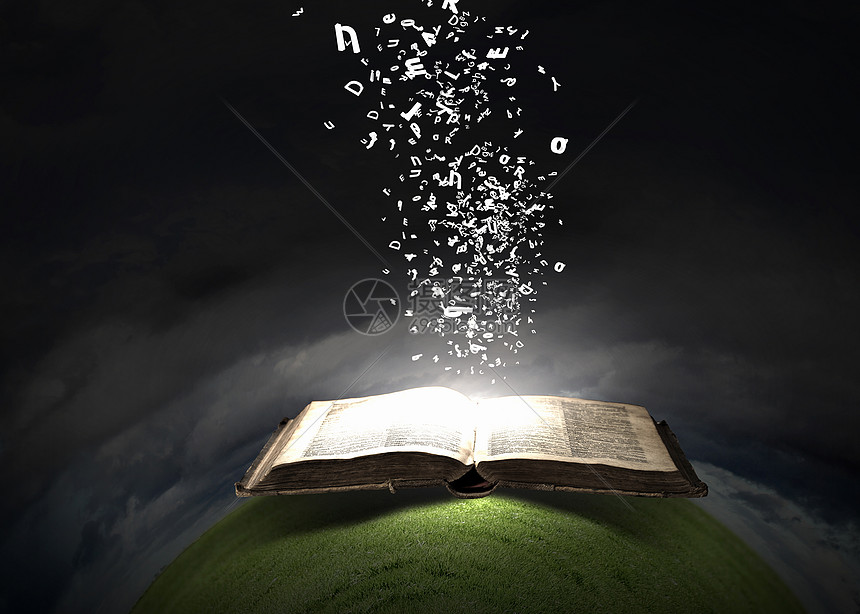book: (211, 359, 745, 536)
